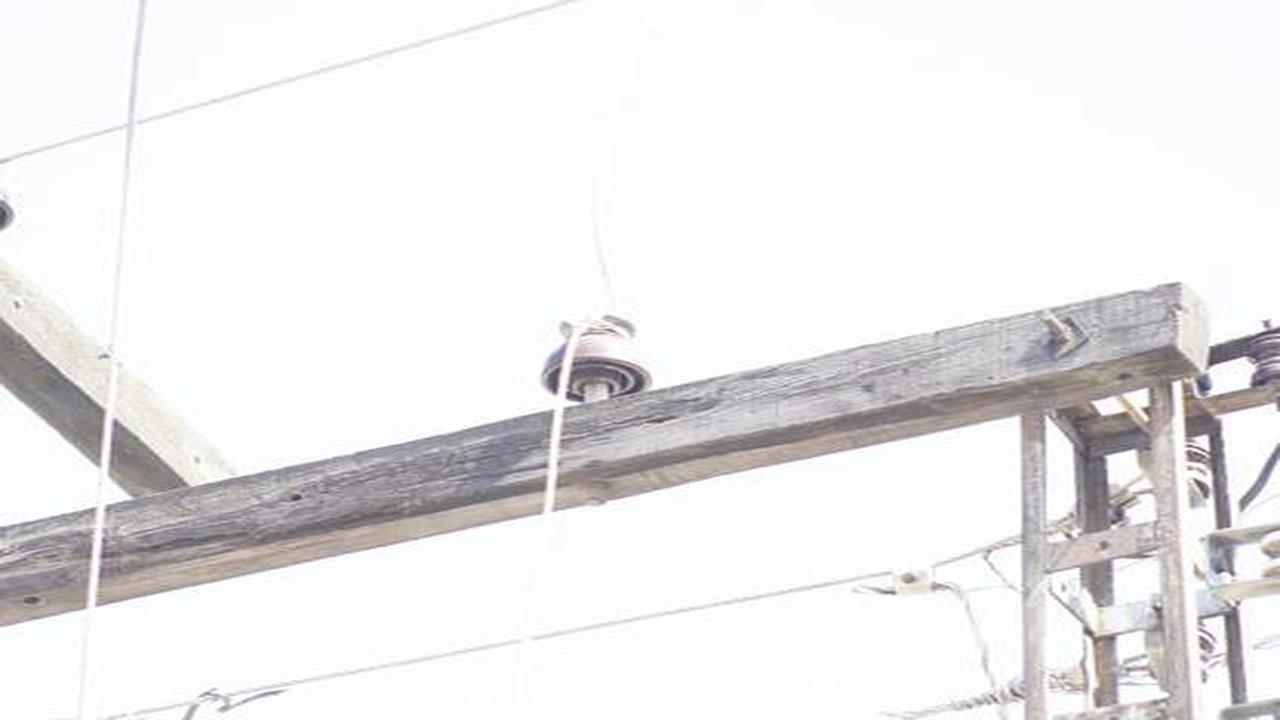insulator_pin: (538, 311, 657, 404)
